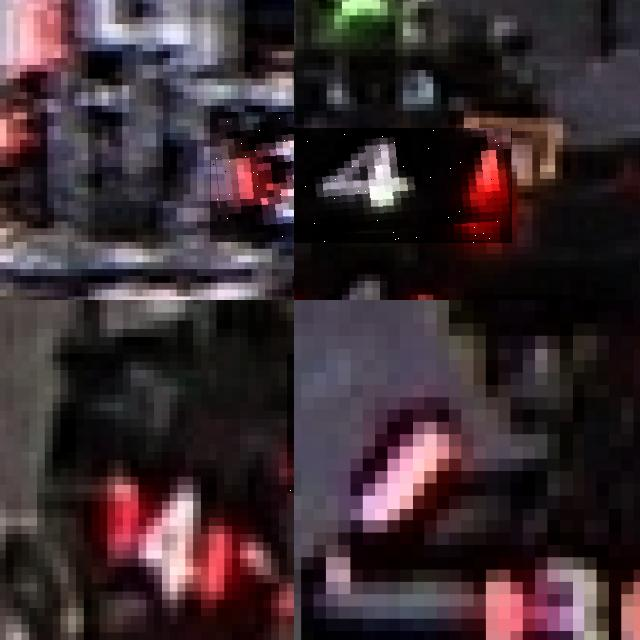R2: (210, 112, 294, 241)
R3: (448, 539, 640, 640)
R4: (294, 127, 513, 243), (92, 468, 240, 608), (294, 260, 452, 300)
